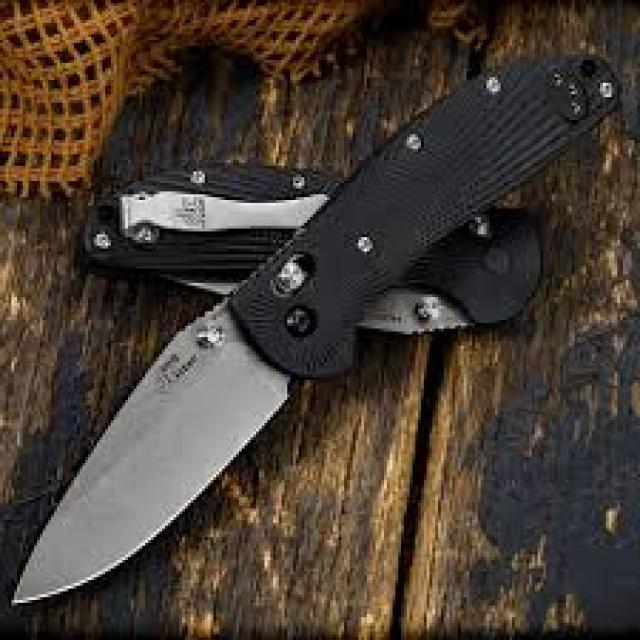knives: (23, 150, 350, 630)
